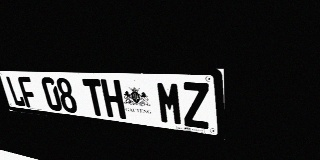0: (40, 77, 63, 112)
8: (55, 78, 79, 113)
F: (17, 76, 39, 109)
H: (100, 79, 126, 119)
L: (5, 76, 26, 107)
M: (155, 81, 184, 126)
T: (82, 79, 107, 117)
Z: (181, 82, 210, 129)
